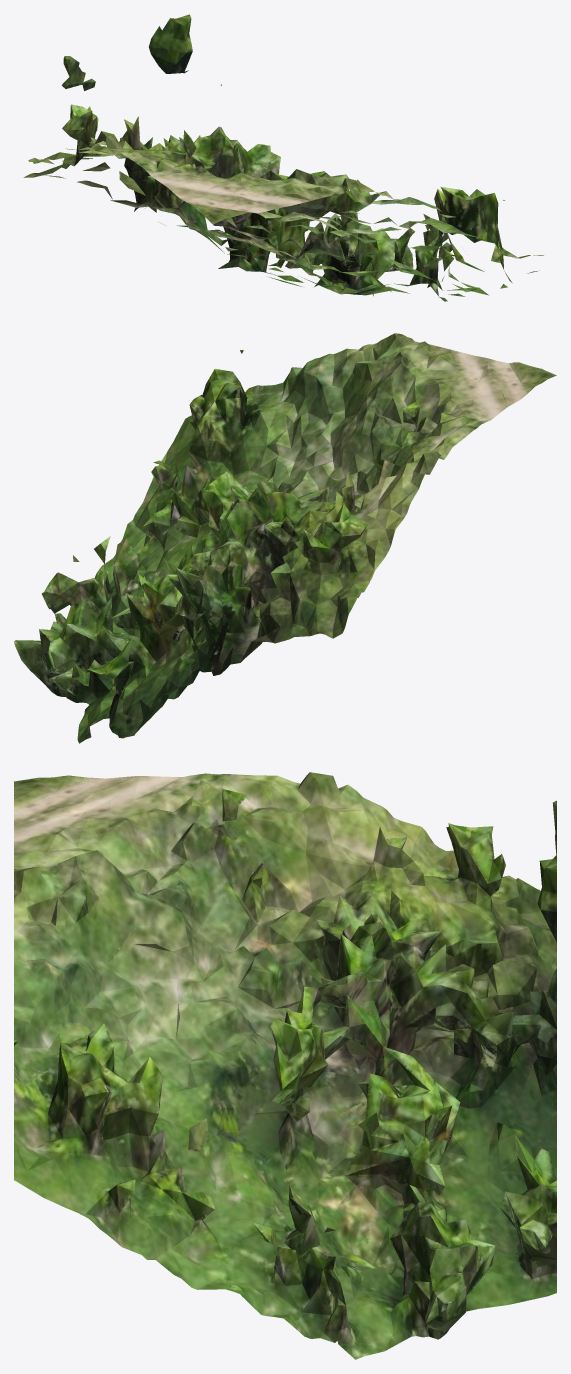
The picture shows the model from 3 angles, top to bottom: view 1: azimuth 30°, elevation 25°; view 2: azimuth 150°, elevation 25°; view 3: azimuth 270°, elevation 25°; orthographic projection. The views are drawn at different scales.
Bounding box in the file's own units: 26.11 × 20.18 × 26.11.
6 materials, 6 textured.
